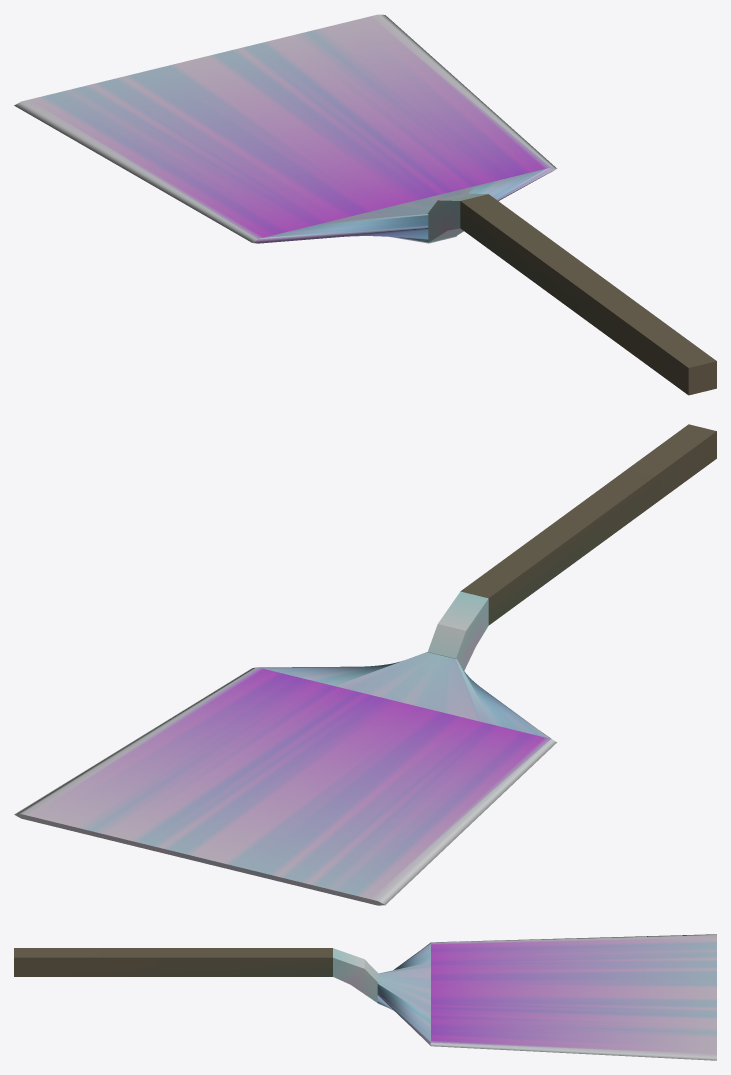
3 renders of one model, top to bottom at view 1: azimuth 30°, elevation 25°; view 2: azimuth 150°, elevation 25°; view 3: azimuth 270°, elevation 25°, orthographic. The views are drawn at different scales.
Parts seen in each view (by area): view 1: plate, handle, neck; view 2: plate, handle, neck; view 3: plate, handle, neck.
Part boxes in pixels (left/top/right/bottom): plate: left=14, top=14, right=556, bottom=243; handle: left=460, top=194, right=716, bottom=395; neck: left=427, top=193, right=487, bottom=242; plate: left=14, top=652, right=556, bottom=905; handle: left=460, top=424, right=716, bottom=625; neck: left=427, top=591, right=488, bottom=670; plate: left=377, top=934, right=716, bottom=1060; handle: left=14, top=948, right=332, bottom=976; neck: left=333, top=948, right=378, bottom=1002.
Size of the model in its own units: 0.1705 by 0.029 by 0.4.
